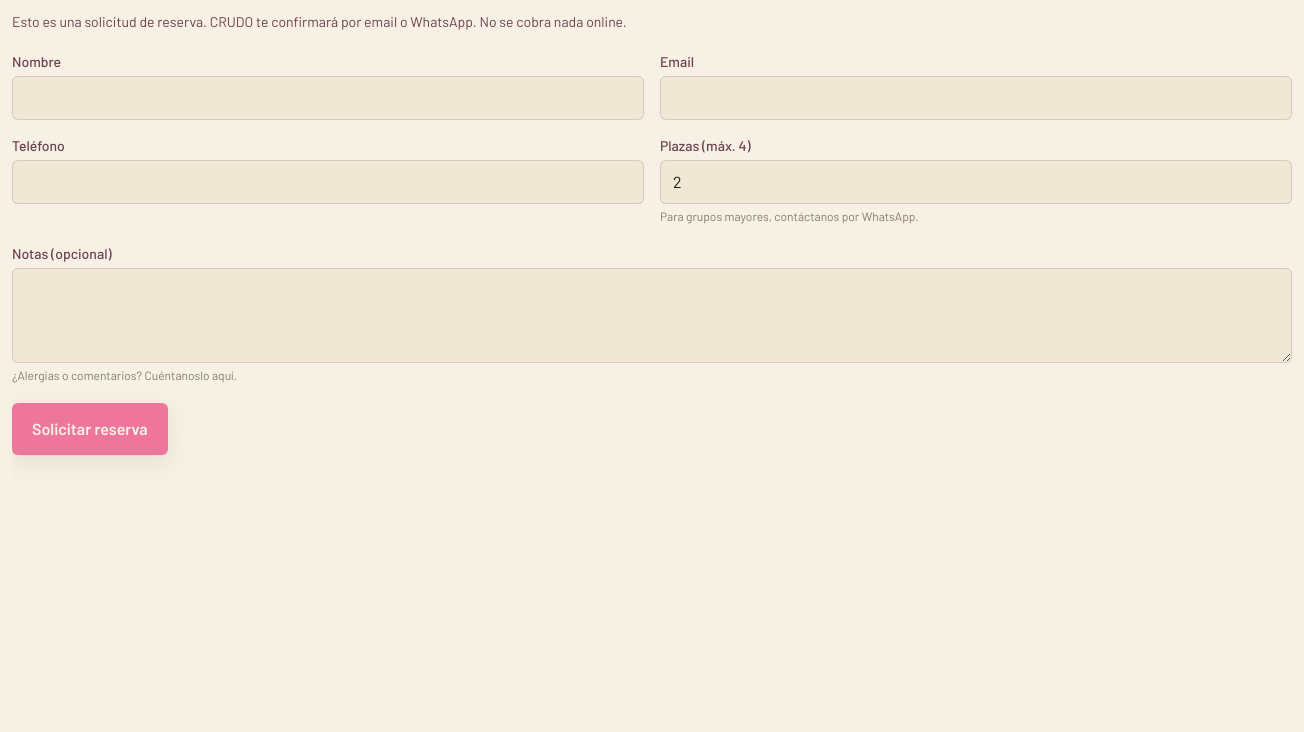
Test: ReservationForm › shows server-provided field errors on 422
In the field labelled "Nombre": {"x": 328, "y": 98} [12,76,644,120], type "Ana"
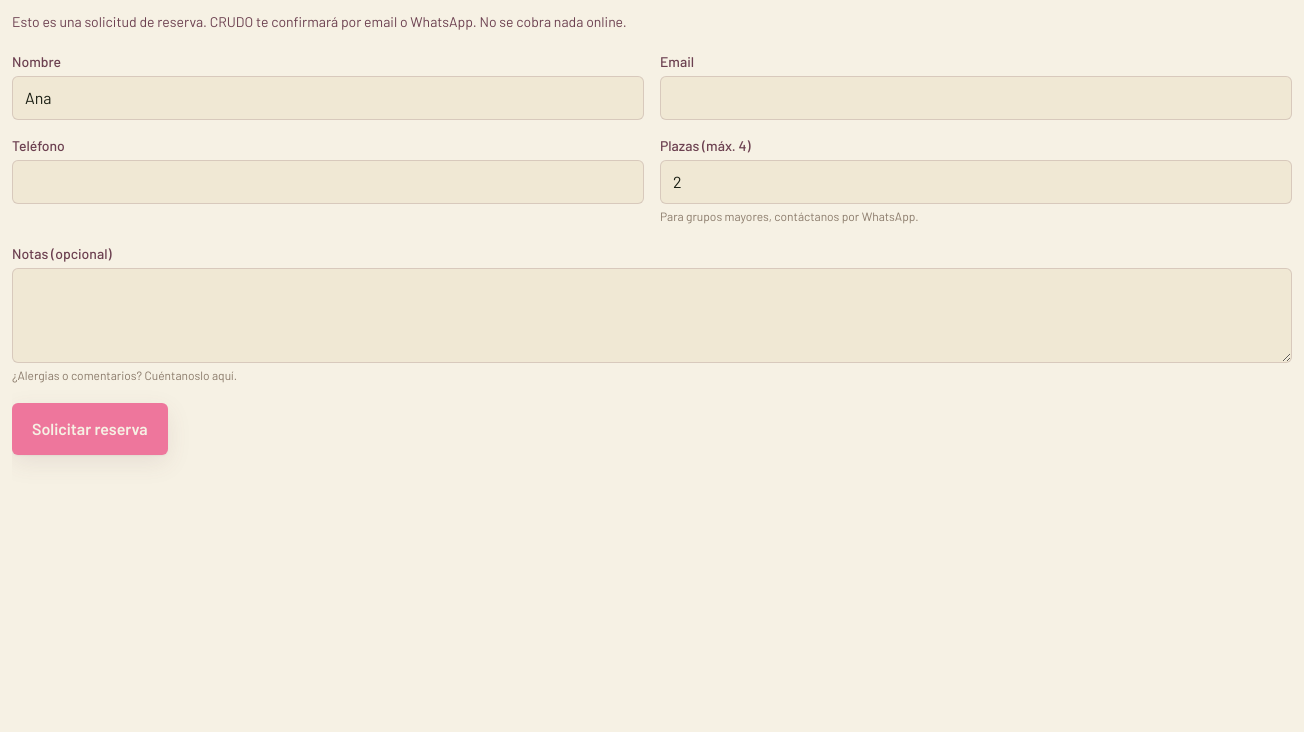
In the field labelled "Email": {"x": 976, "y": 98} [660,76,1292,120], type "ana@example.com"
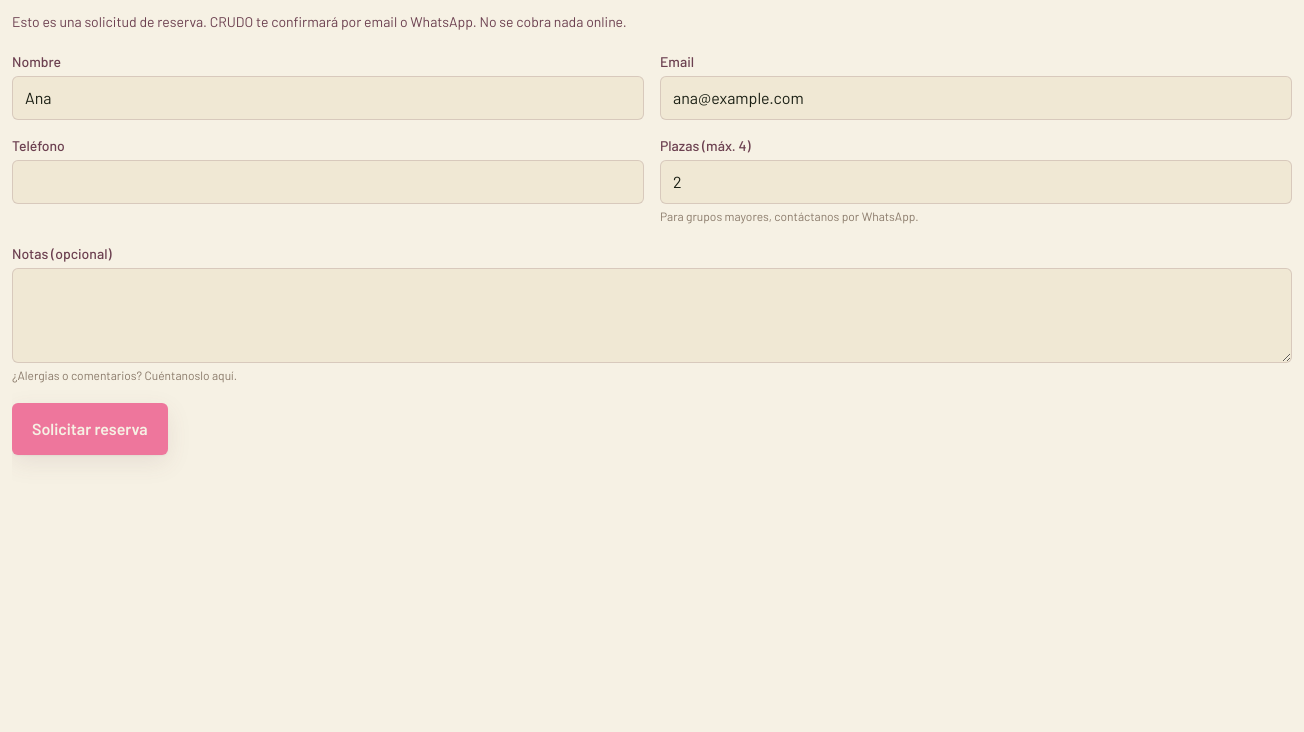
In the field labelled "Teléfono": {"x": 328, "y": 182} [12,160,644,204], type "+34600111222"
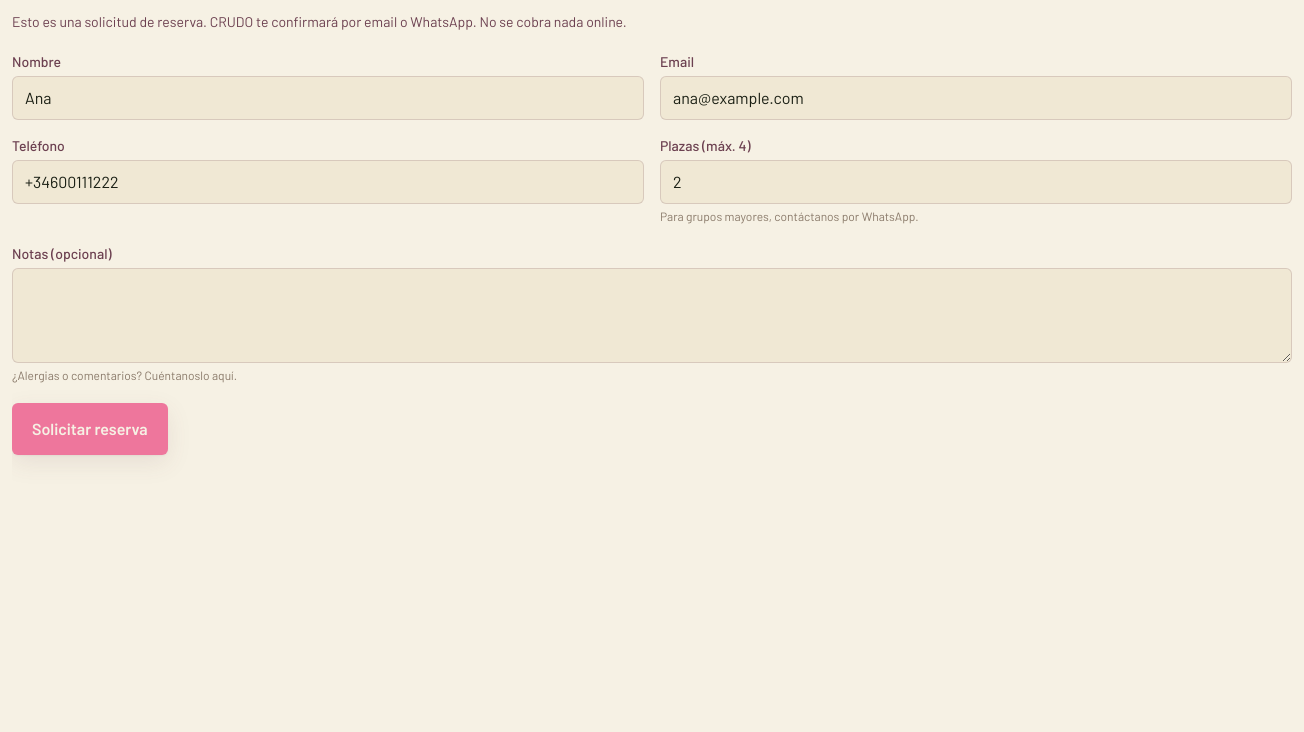
Click the button "Solicitar reserva": {"x": 90, "y": 429} [12,403,168,455]
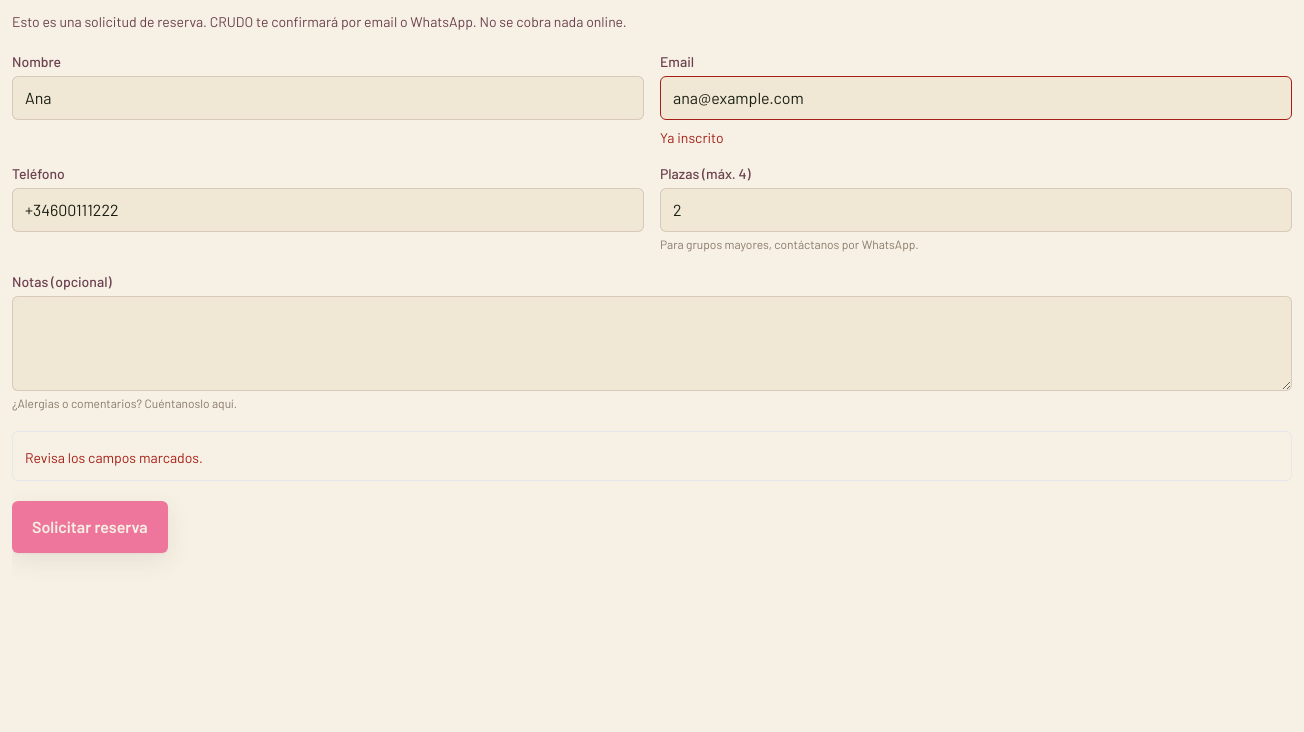
Check: the text "Ya inscrito" is shown, box [660,129,724,146]
